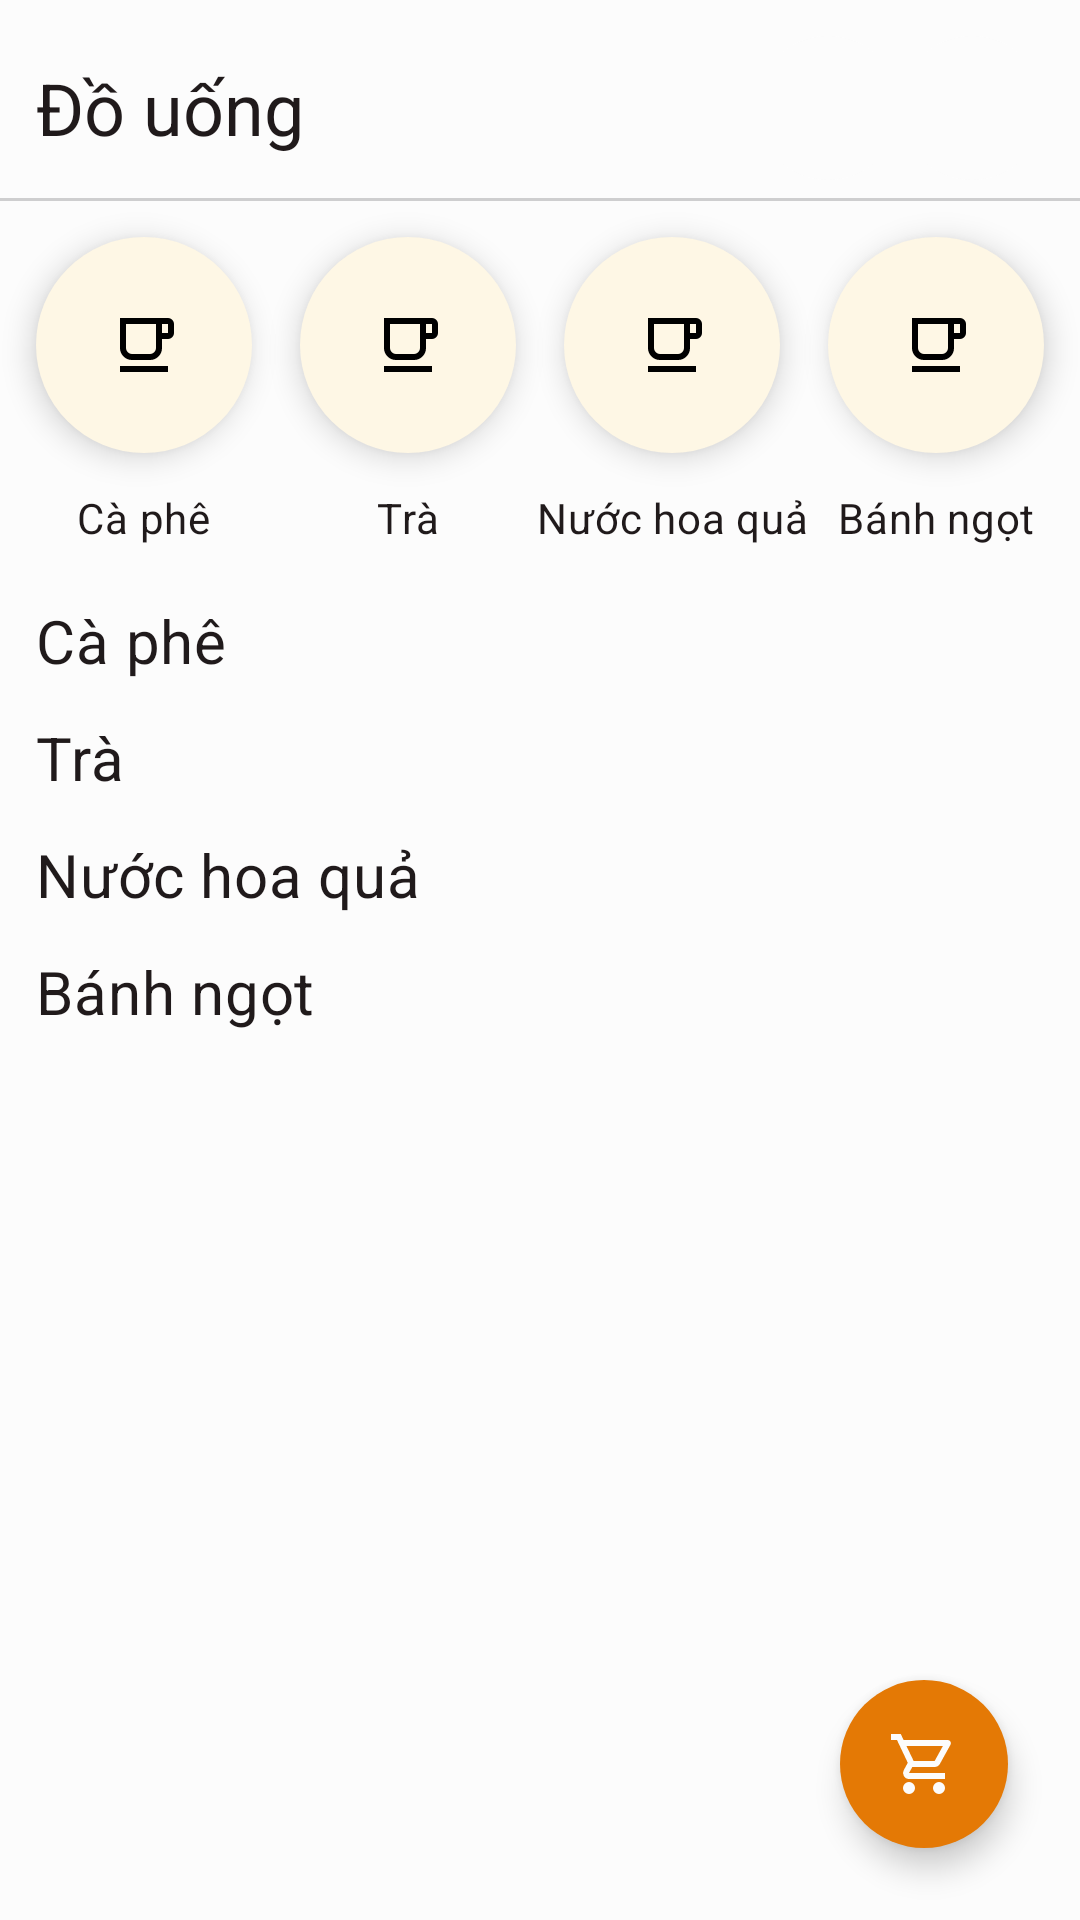

Named icons in this screenshot (1080 x 1920) and their bounding boxes, (x1, y1, x2, y2):
cart: (840, 1680, 1008, 1848)
drink: (36, 237, 252, 453), (300, 237, 516, 453), (564, 237, 780, 453), (828, 237, 1044, 453)
